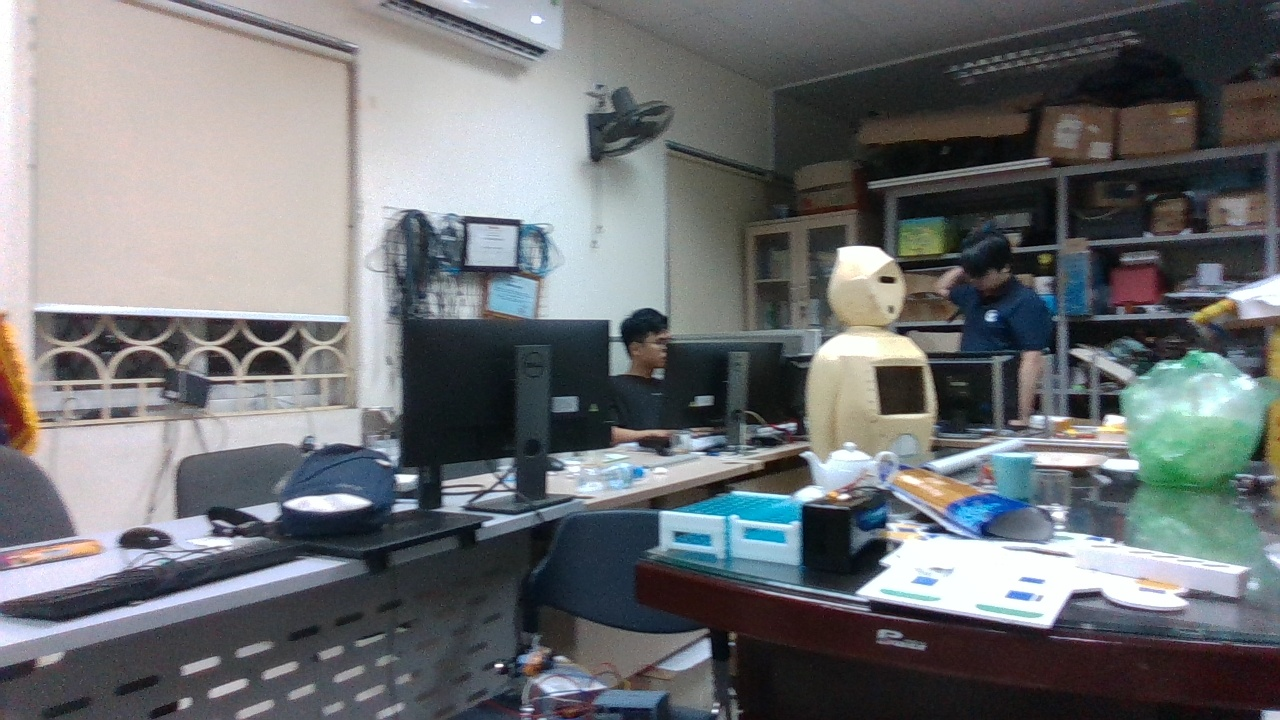person: (794, 247, 948, 460), (952, 245, 1060, 425)
